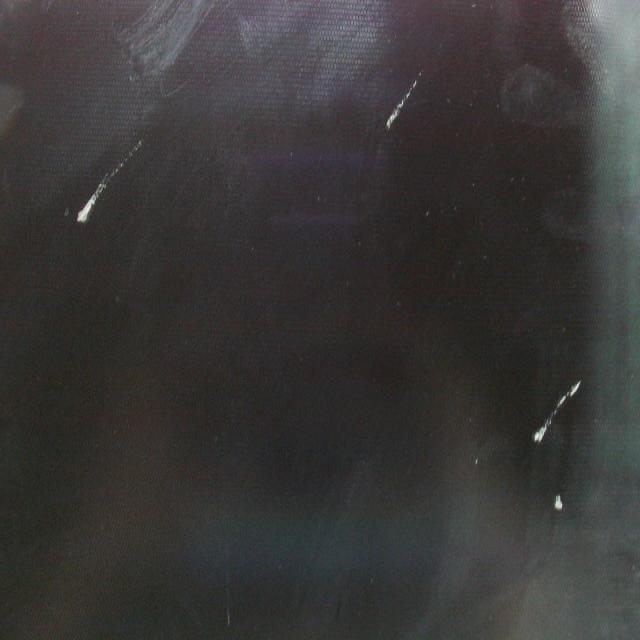scratch: (78, 128, 154, 237), (528, 367, 592, 450), (378, 62, 432, 140)
very small scratch: (549, 483, 569, 525)
